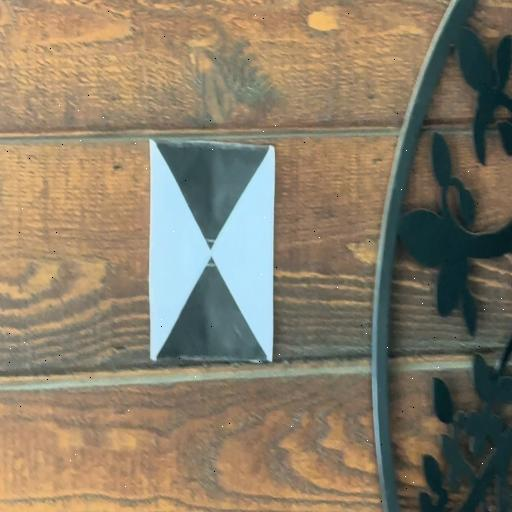target: (148, 138, 274, 365)
